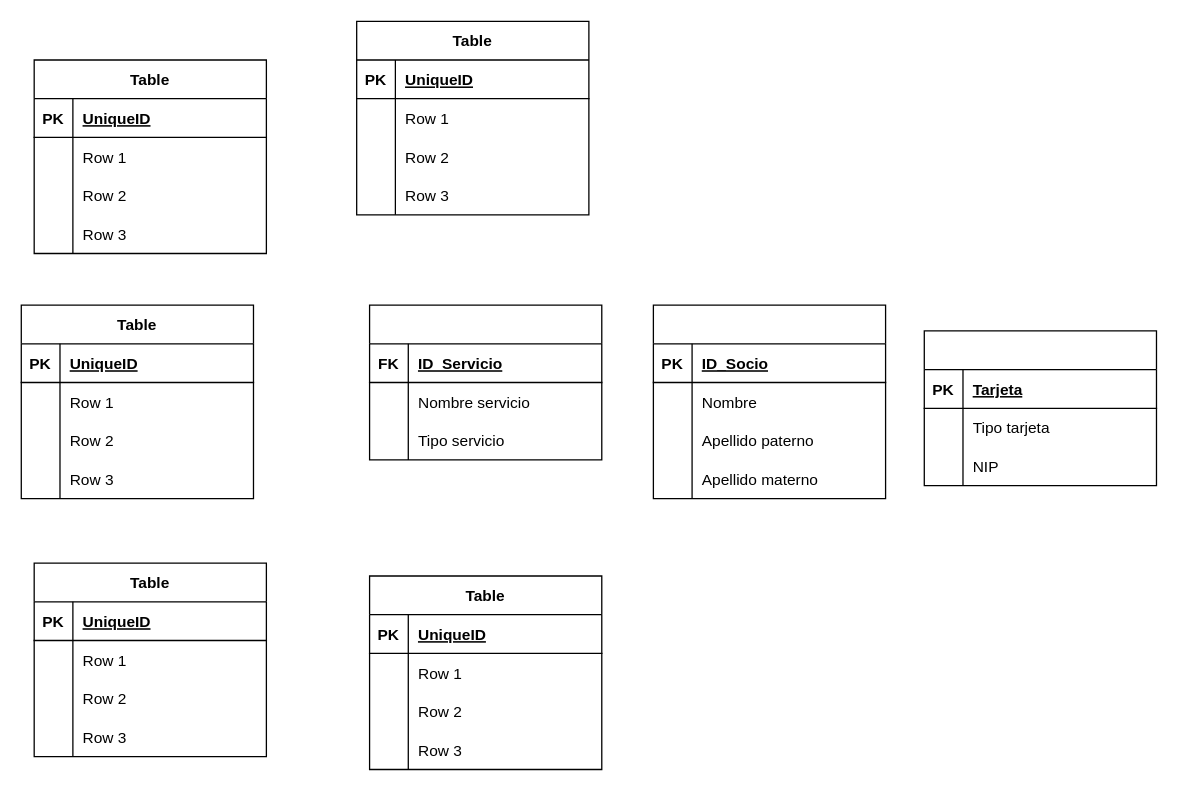
Image size: 1178x791. Some labels were removed from this diagram. Each missing label, with the box of its shape:
Servicios: (368, 304, 602, 460)
Socios: (652, 304, 886, 499)
Tarjetas: (923, 330, 1156, 486)
